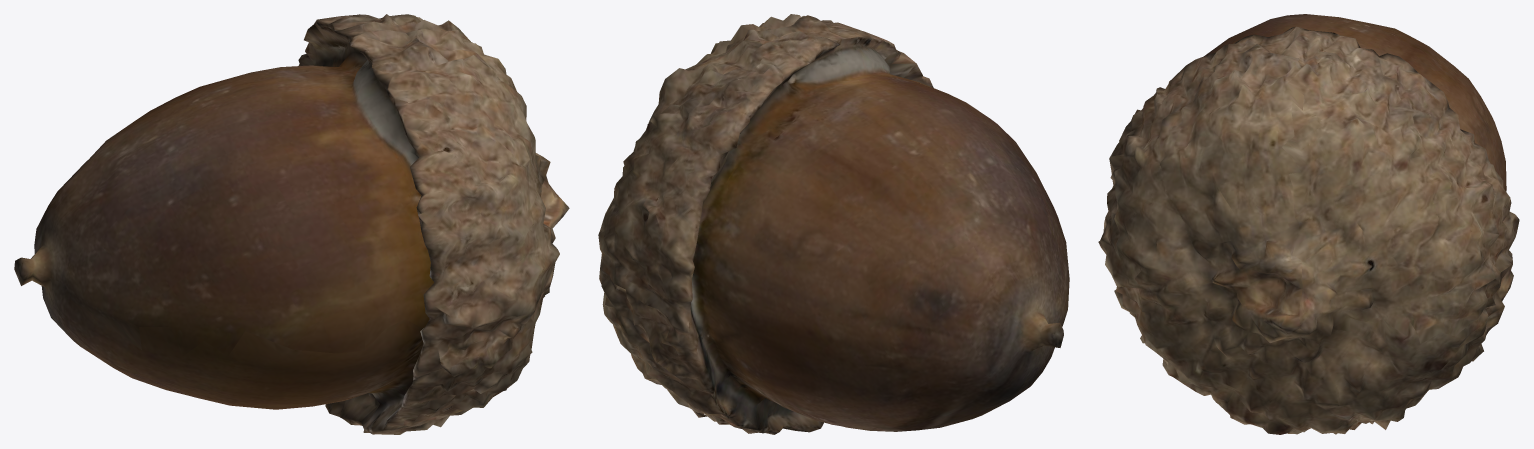
Rendered from acorn.glb.
3 renders of one model, left to right at view 1: azimuth 30°, elevation 25°; view 2: azimuth 150°, elevation 25°; view 3: azimuth 270°, elevation 25°, orthographic. The views are drawn at different scales.
Parts seen in each view (by area): view 1: acorn; view 2: acorn; view 3: acorn.
Boxes of the visible parts, left/top/right/bottom form: acorn: left=14, top=14, right=569, bottom=434; acorn: left=598, top=14, right=1069, bottom=434; acorn: left=1098, top=14, right=1519, bottom=434.
Bounding box in the file's own units: 0.4988 × 0.38 × 0.3851.
1 material, 1 textured.
